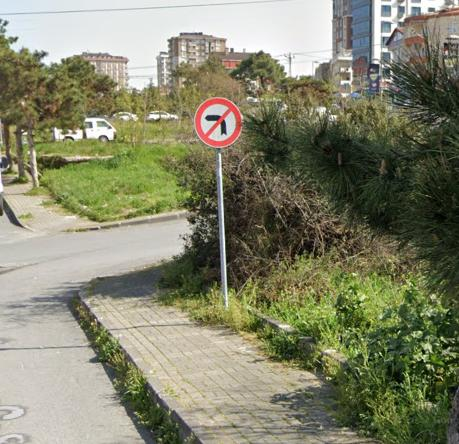leftturnsareforbidden: (196, 97, 242, 145)
